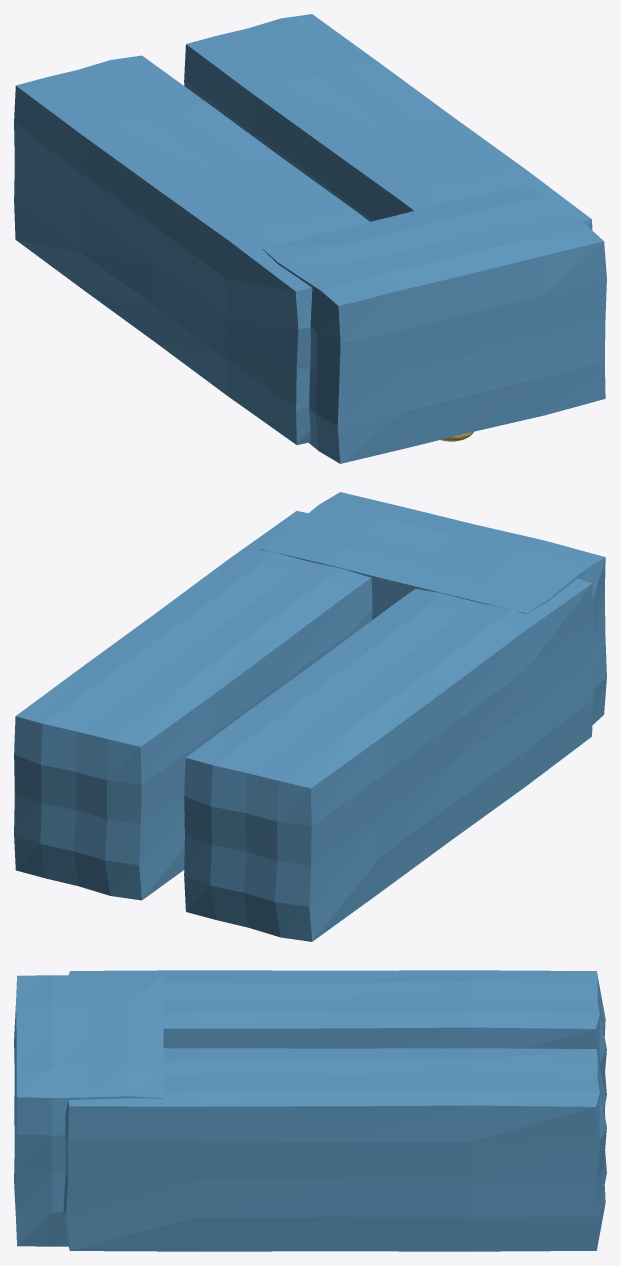
File: vaqueros.glb
3 renders of one model, top to bottom at view 1: azimuth 30°, elevation 25°; view 2: azimuth 150°, elevation 25°; view 3: azimuth 270°, elevation 25°, orthographic. The views are drawn at different scales.
Parts seen in each view (by area): view 1: vaqueros_00, vaqueros_02, vaqueros_01; view 2: vaqueros_00, vaqueros_01, vaqueros_02; view 3: vaqueros_01, vaqueros_00, vaqueros_02.
Boxes of the visible parts, <box> form: vaqueros_00: <box>14,55,369,444</box>; vaqueros_02: <box>262,184,606,463</box>; vaqueros_01: <box>184,14,592,230</box>; vaqueros_00: <box>184,578,593,941</box>; vaqueros_01: <box>14,511,372,900</box>; vaqueros_02: <box>260,492,606,724</box>; vaqueros_01: <box>63,1048,606,1251</box>; vaqueros_00: <box>69,970,606,1117</box>; vaqueros_02: <box>14,974,164,1246</box>.
Size of the model in its own units: 0.7766 by 0.4503 by 1.41.
